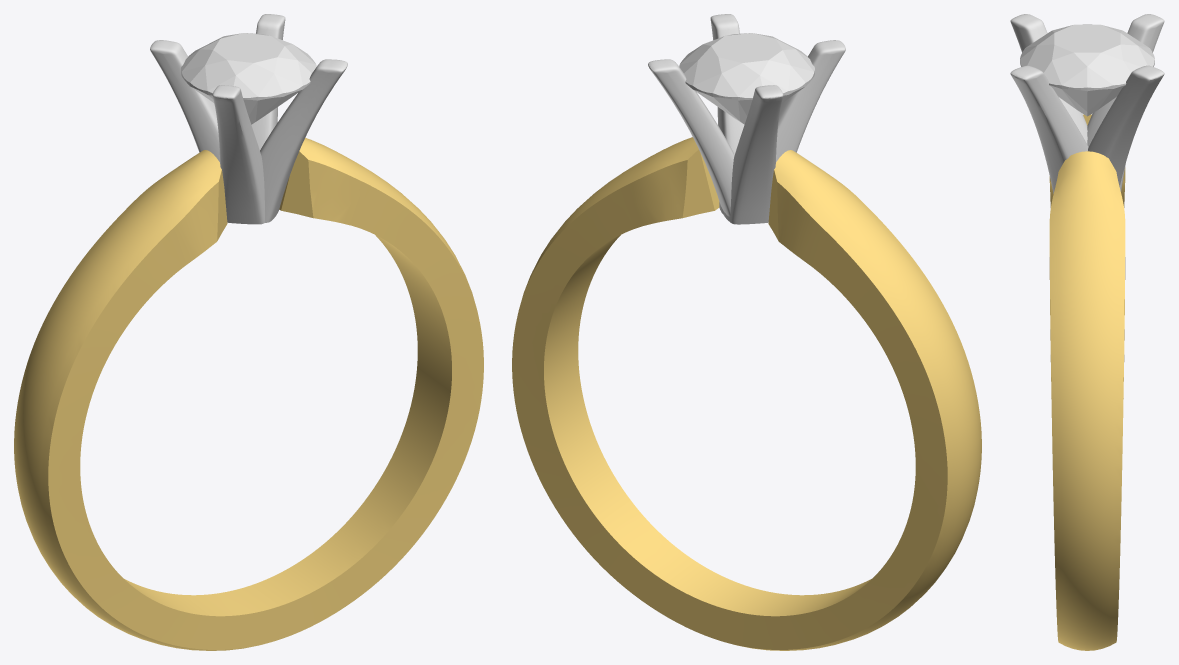
File: JennyPThead_blender.glb
The picture shows the model from 3 angles, left to right: view 1: azimuth 30°, elevation 25°; view 2: azimuth 150°, elevation 25°; view 3: azimuth 270°, elevation 25°; orthographic projection.
Parts seen in each view (by area): view 1: Jenny YG for 3d model, Jenny PT for 3d model, Jenny dia for 3d model; view 2: Jenny YG for 3d model, Jenny PT for 3d model, Jenny dia for 3d model; view 3: Jenny YG for 3d model, Jenny PT for 3d model, Jenny dia for 3d model.
Part boxes in pixels (x1=…): Jenny YG for 3d model: x1=14, y1=138, x2=483, y2=650; Jenny PT for 3d model: x1=150, y1=14, x2=347, y2=224; Jenny dia for 3d model: x1=181, y1=33, x2=316, y2=124; Jenny YG for 3d model: x1=512, y1=137, x2=981, y2=650; Jenny PT for 3d model: x1=648, y1=14, x2=845, y2=224; Jenny dia for 3d model: x1=679, y1=33, x2=814, y2=124; Jenny YG for 3d model: x1=1049, y1=114, x2=1125, y2=650; Jenny PT for 3d model: x1=1010, y1=14, x2=1164, y2=193; Jenny dia for 3d model: x1=1020, y1=24, x2=1154, y2=116.
Size of the model in its own units: 20.52 by 25.83 by 6.12.
